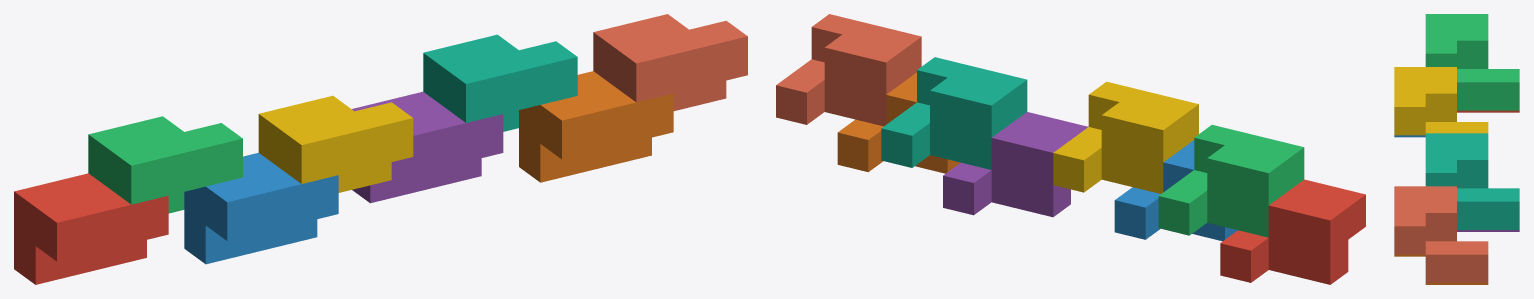
File: tiling.obj
The picture shows the model from 3 angles, left to right: view 1: azimuth 30°, elevation 25°; view 2: azimuth 150°, elevation 25°; view 3: azimuth 270°, elevation 25°; orthographic projection. The views are drawn at different scales.
Parts seen in each view (by area): view 1: copy_1_domain_1, copy_1_domain_2, copy_1_domain_6, copy_1_domain_4, copy_1_domain_8, copy_1_domain_3, copy_1_domain_7, copy_1_domain_5; view 2: copy_1_domain_7, copy_1_domain_3, copy_1_domain_4, copy_1_domain_8, copy_1_domain_1, copy_1_domain_5, copy_1_domain_2, copy_1_domain_6; view 3: copy_1_domain_8, copy_1_domain_7, copy_1_domain_3, copy_1_domain_4, copy_1_domain_6, copy_1_domain_1, copy_1_domain_5, copy_1_domain_2.
Part boxes in pixels (bbox=[...]): copy_1_domain_1: bbox=[14, 173, 168, 284]; copy_1_domain_2: bbox=[184, 152, 338, 264]; copy_1_domain_6: bbox=[519, 71, 673, 182]; copy_1_domain_4: bbox=[258, 95, 413, 192]; copy_1_domain_8: bbox=[593, 14, 747, 110]; copy_1_domain_3: bbox=[88, 116, 242, 213]; copy_1_domain_7: bbox=[423, 34, 577, 131]; copy_1_domain_5: bbox=[352, 91, 503, 203]; copy_1_domain_7: bbox=[881, 57, 1027, 169]; copy_1_domain_3: bbox=[1158, 125, 1304, 237]; copy_1_domain_4: bbox=[1053, 81, 1198, 193]; copy_1_domain_8: bbox=[776, 14, 921, 126]; copy_1_domain_1: bbox=[1220, 179, 1365, 284]; copy_1_domain_5: bbox=[943, 112, 1088, 217]; copy_1_domain_2: bbox=[1114, 140, 1237, 241]; copy_1_domain_6: bbox=[837, 72, 960, 173]; copy_1_domain_8: bbox=[1394, 186, 1488, 282]; copy_1_domain_7: bbox=[1425, 133, 1519, 229]; copy_1_domain_3: bbox=[1425, 14, 1519, 110]; copy_1_domain_4: bbox=[1394, 67, 1488, 135]; copy_1_domain_6: bbox=[1394, 254, 1488, 284]; copy_1_domain_1: bbox=[1457, 110, 1519, 112]; copy_1_domain_5: bbox=[1457, 230, 1519, 231]; copy_1_domain_2: bbox=[1394, 135, 1425, 137].
Bounding box in the file's own units: 18 × 3 × 4.
